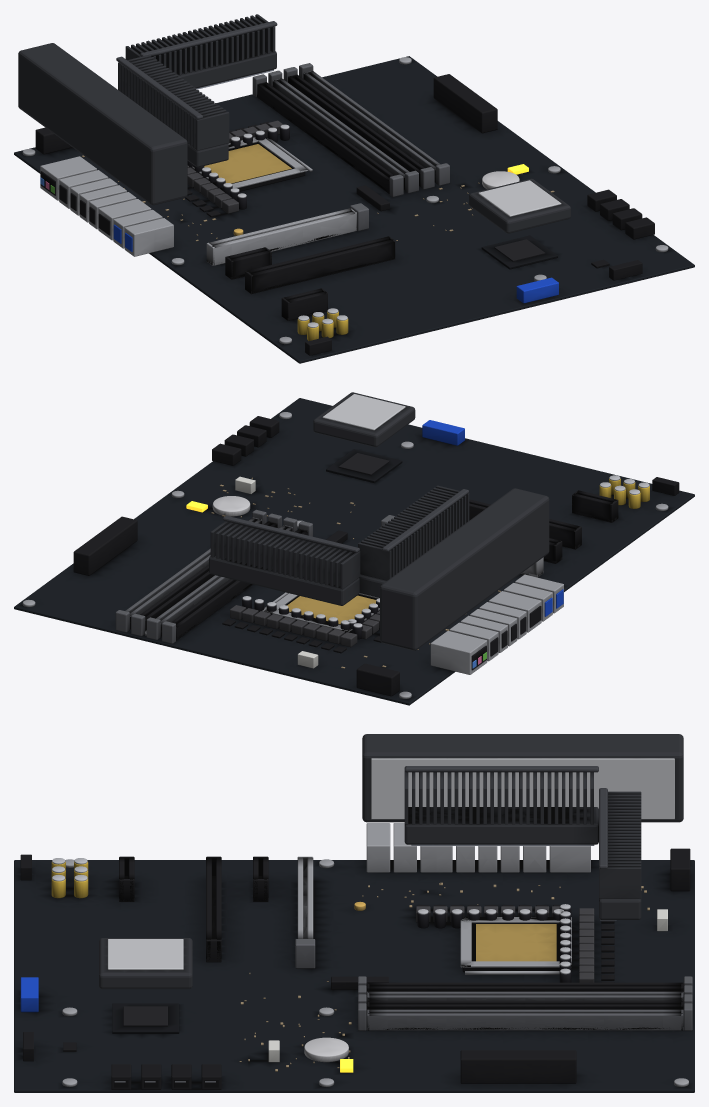
Rendered from board_open.glb.
3 renders of one model, top to bottom at view 1: azimuth 30°, elevation 25°; view 2: azimuth 150°, elevation 25°; view 3: azimuth 270°, elevation 25°, orthographic. The views are drawn at different scales.
Parts seen in each view (by area): view 1: X_board_open, X_L_io, X_L_vrm, X_L_pch; view 2: X_board_open, X_L_vrm, X_L_io, X_L_pch; view 3: X_board_open, X_L_io, X_L_vrm, X_L_pch.
Part boxes in pixels (x1=…): X_board_open: x1=14, y1=56, x2=694, y2=363; X_L_io: x1=18, y1=43, x2=187, y2=205; X_L_vrm: x1=116, y1=14, x2=277, y2=167; X_L_pch: x1=469, y1=178, x2=570, y2=233; X_board_open: x1=14, y1=398, x2=694, y2=705; X_L_vrm: x1=209, y1=485, x2=469, y2=605; X_L_io: x1=380, y1=488, x2=549, y2=650; X_L_pch: x1=313, y1=392, x2=415, y2=447; X_board_open: x1=14, y1=823, x2=694, y2=1092; X_L_io: x1=362, y1=734, x2=683, y2=822; X_L_vrm: x1=404, y1=766, x2=641, y2=920; X_L_pch: x1=99, y1=938, x2=192, y2=989.
Bounding box in the file's own units: 0.2564 × 0.066 × 0.3051.
